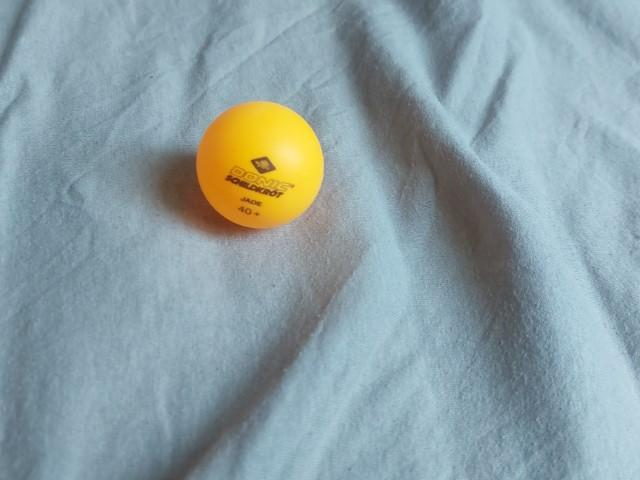oball: (192, 98, 328, 231)
